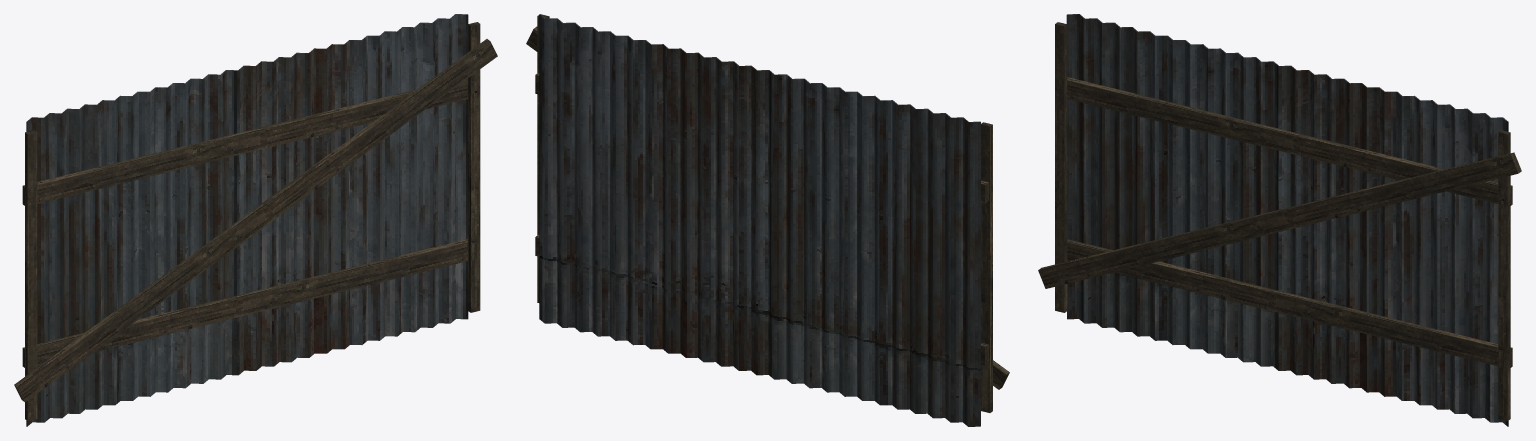
Rendered from fence_b_1.glb.
3 views of the same model, side by side, from view 1: azimuth 30°, elevation 25°; view 2: azimuth 150°, elevation 25°; view 3: azimuth 330°, elevation 25° (orthographic).
Visible parts, largest first — view 1: fence_b_1; view 2: fence_b_1; view 3: fence_b_1.
Part boxes in pixels (x1,y1,x2,y2): fence_b_1: [14, 14, 497, 426]; fence_b_1: [526, 14, 1009, 426]; fence_b_1: [1038, 14, 1521, 426].
Size of the model in its own units: 4.03 by 2.44 by 0.1983.
2 materials, 2 textured.
